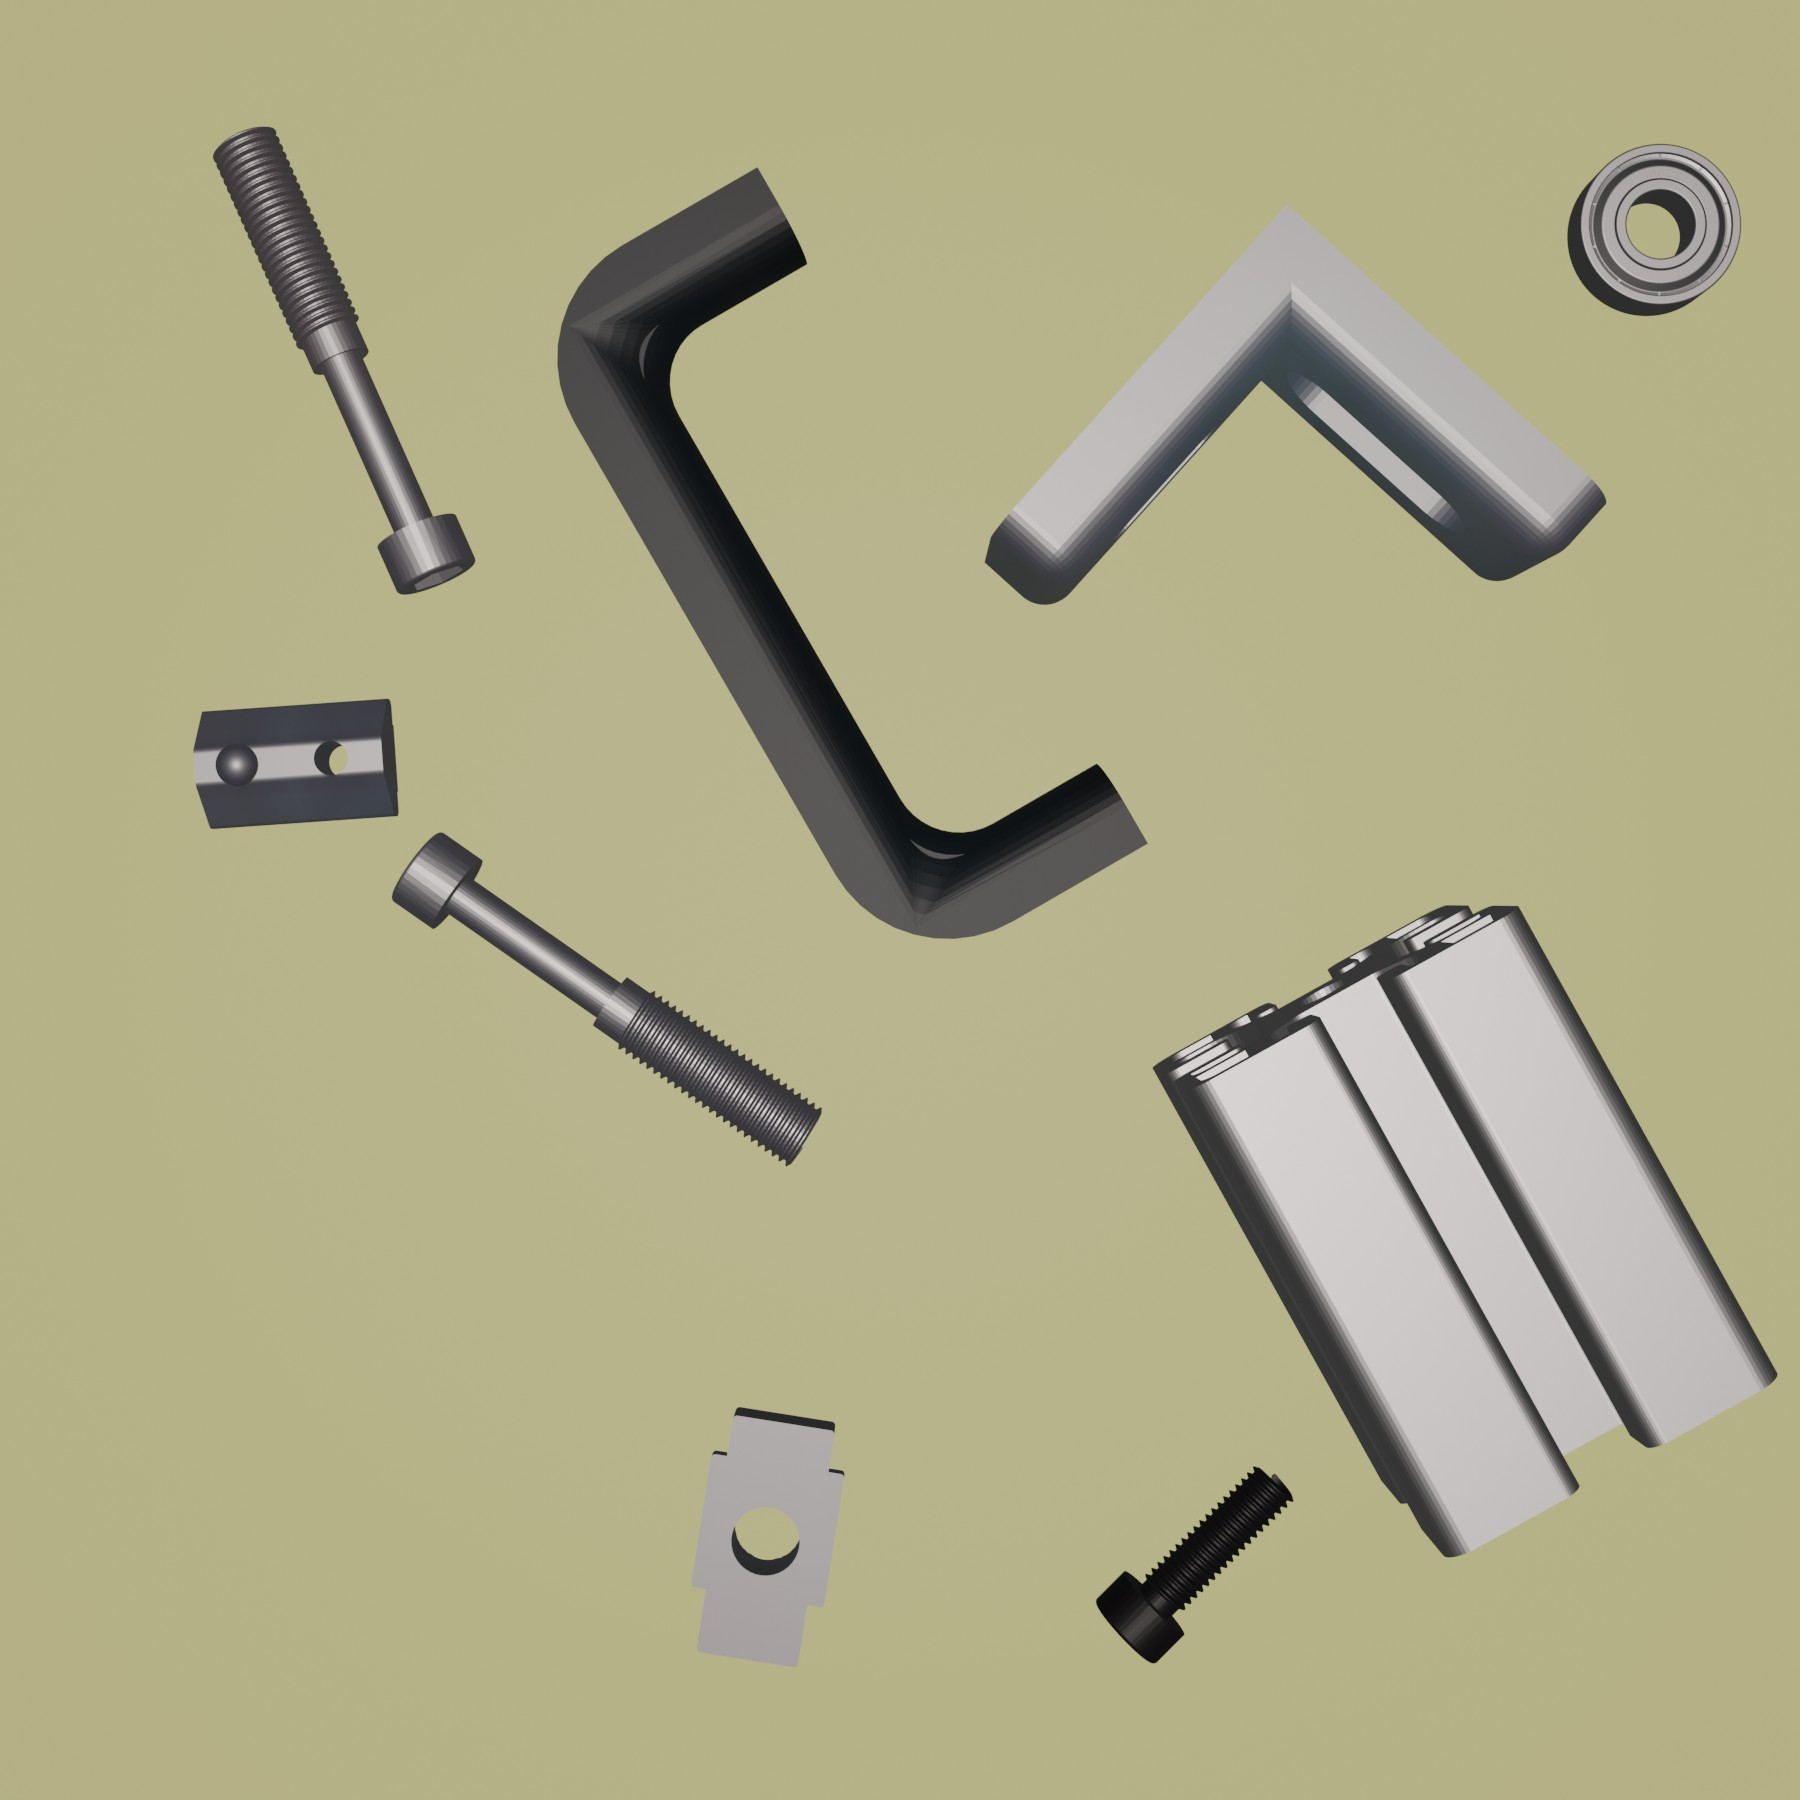Aluminium Extension: (1147, 898, 1779, 1558)
Ball Bearing: (1563, 137, 1746, 318)
Multiwinkel: (982, 198, 1605, 608)
Pull Handle: (555, 163, 1151, 941)
Shoulder Socket Head Cap Screw: (389, 827, 824, 1169), (209, 125, 478, 598)
Socket Head Cap Screw: (1093, 1462, 1292, 1665)
T Nut Square: (686, 1401, 851, 1670)
T Spring Nut: (193, 691, 405, 834)
